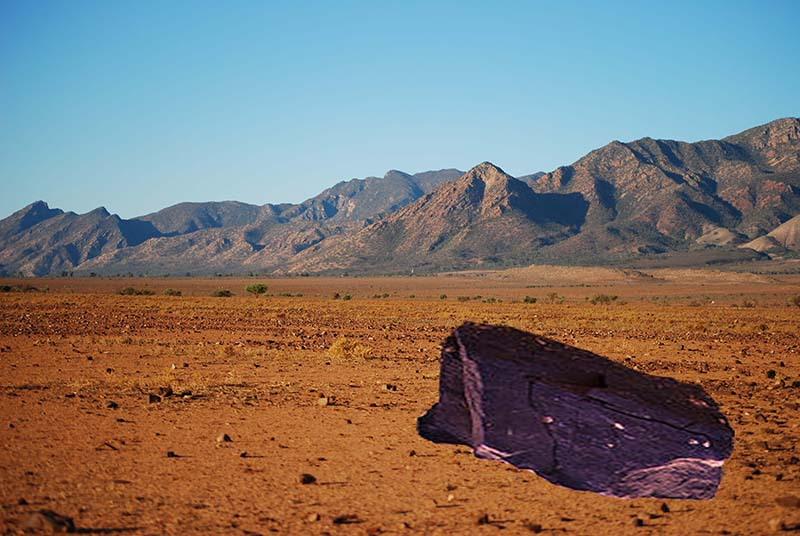Rocks: (408, 313, 739, 507)
